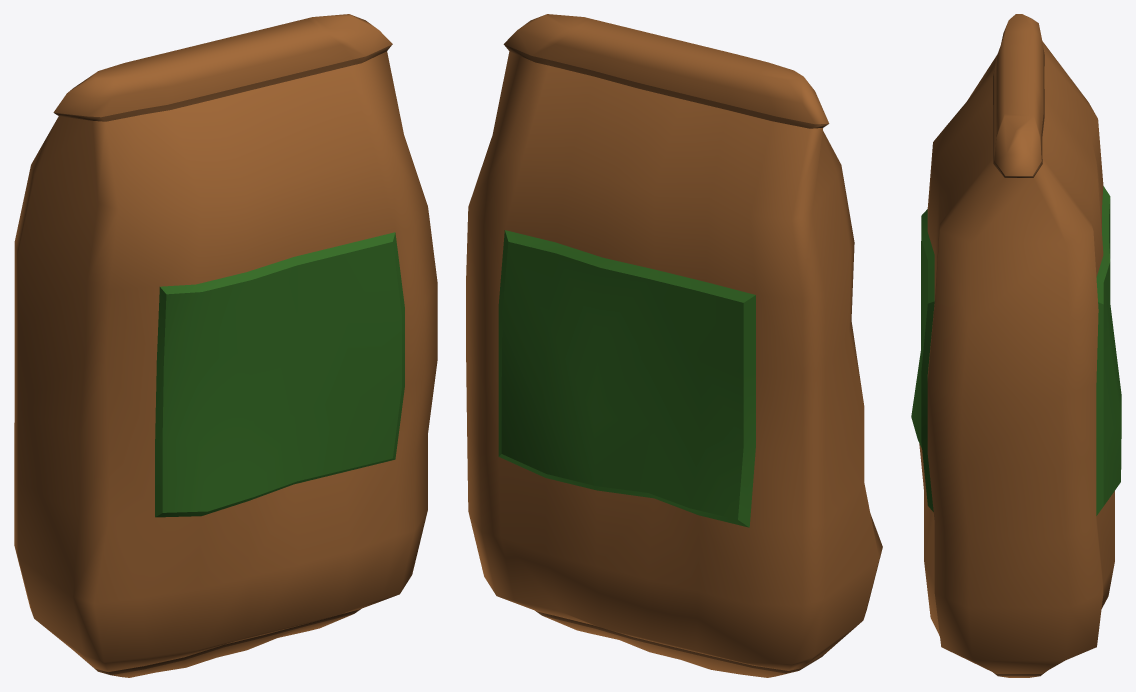
Rendered from Seedbag.fbx.
The picture shows the model from 3 angles, left to right: view 1: azimuth 30°, elevation 25°; view 2: azimuth 150°, elevation 25°; view 3: azimuth 270°, elevation 25°; orthographic projection. The views are drawn at different scales.
Visible parts, largest first — view 1: SeedBag; view 2: SeedBag; view 3: SeedBag.
Part boxes in pixels (x1,y1,x2,y2): SeedBag: (14, 14, 437, 677); SeedBag: (466, 14, 882, 677); SeedBag: (911, 14, 1121, 677).
Size of the model in its own units: 1.07 by 1.71 by 0.5794.
